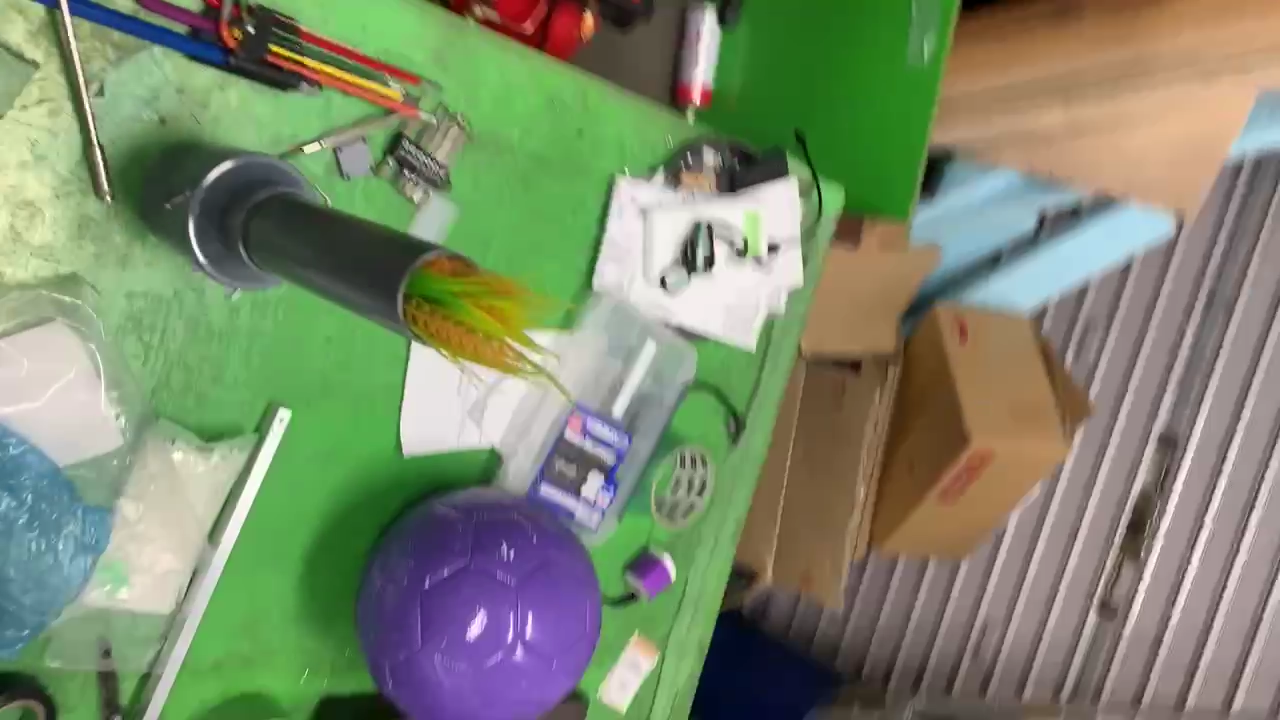purple: (358, 491, 598, 720)
